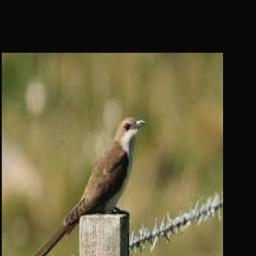Cuckoo: (24, 117, 146, 256)
